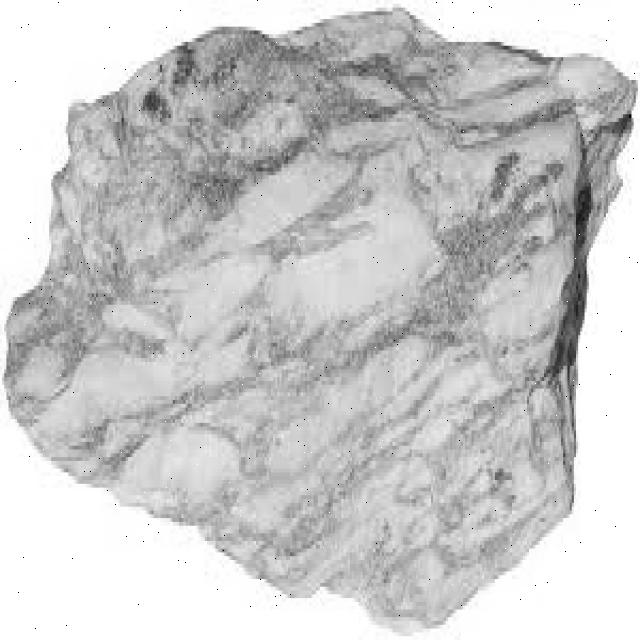Metamorphic: (6, 12, 634, 632)
